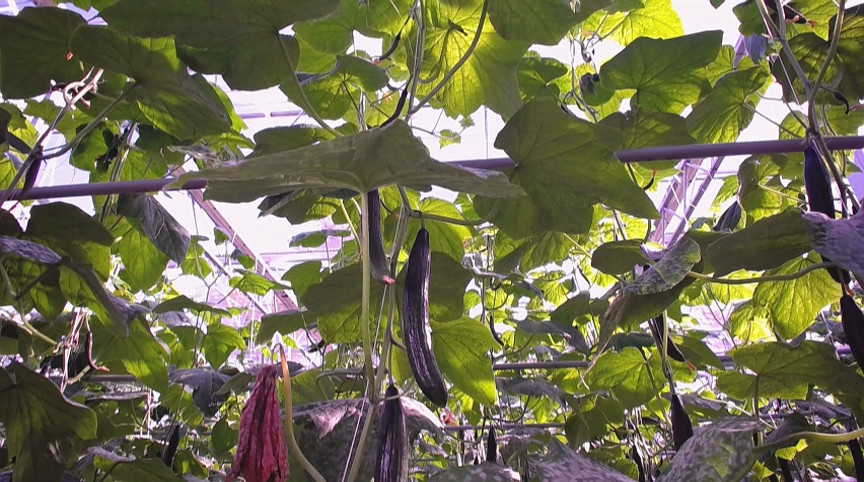cucumber: (405, 228, 448, 408), (804, 146, 853, 286), (377, 385, 410, 482), (364, 190, 392, 287), (838, 294, 864, 370)
